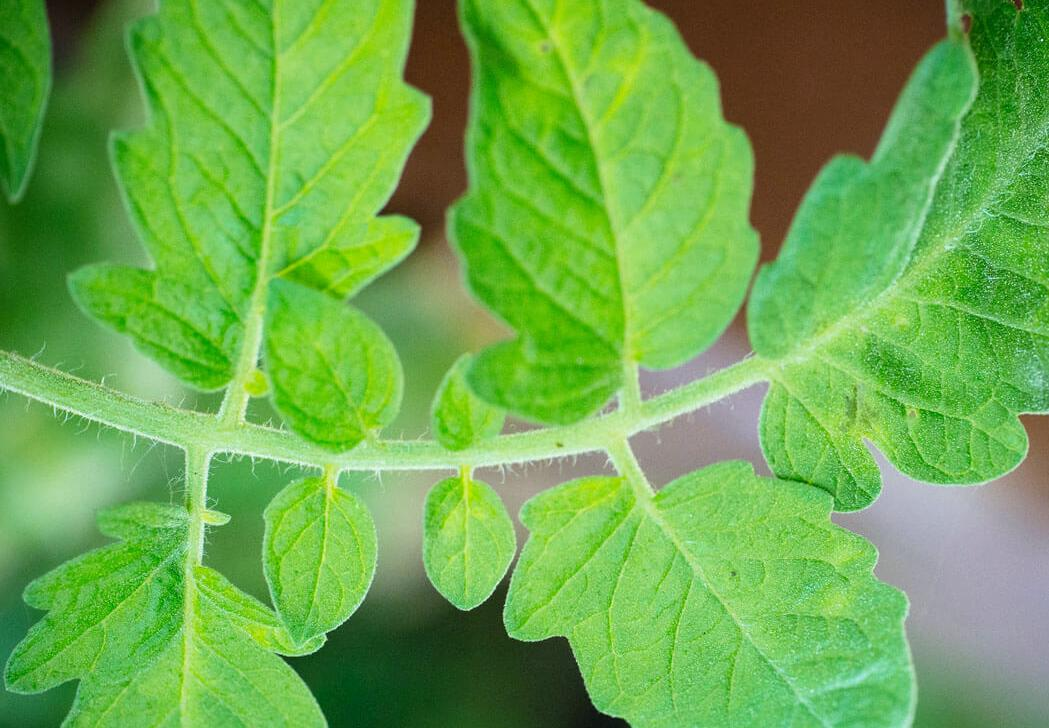Tomato leaf: (767, 4, 1049, 508), (79, 0, 431, 402), (459, 0, 741, 434), (523, 439, 917, 728), (2, 495, 292, 728), (263, 279, 423, 461), (262, 456, 387, 636), (413, 456, 516, 625)
